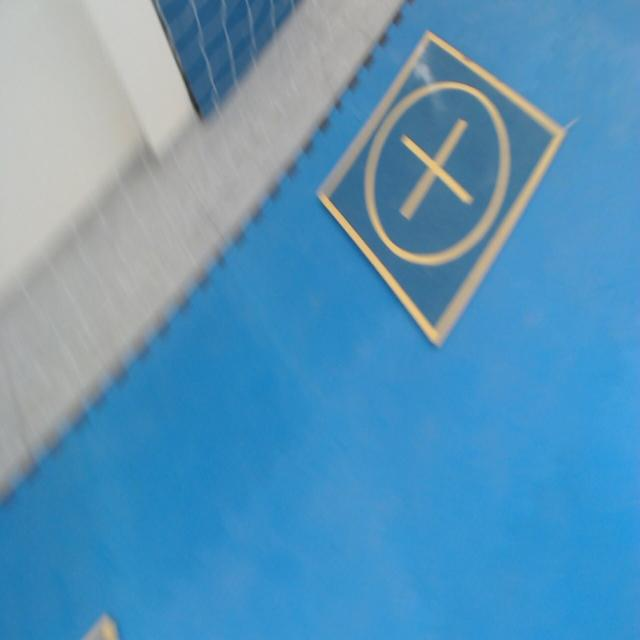base_pouso: (316, 27, 569, 348)
